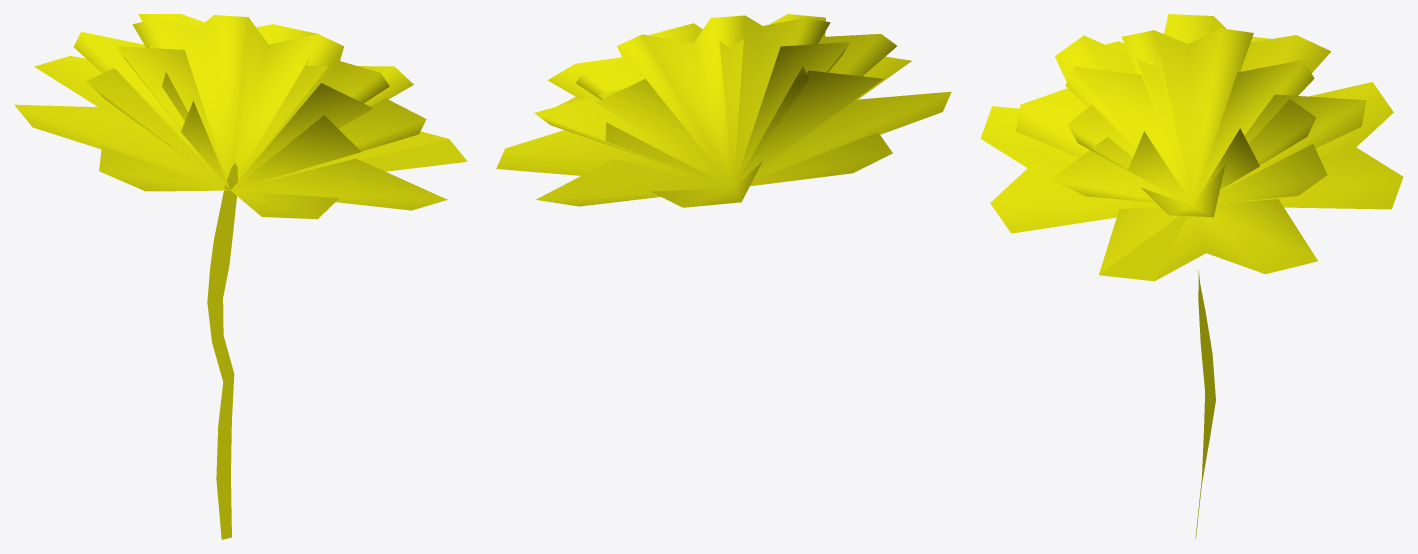
File: Flower3.glb
The picture shows the model from 3 angles, left to right: view 1: azimuth 30°, elevation 25°; view 2: azimuth 150°, elevation 25°; view 3: azimuth 270°, elevation 25°; orthographic projection. The views are drawn at different scales.
Visible parts, largest first — view 1: polySurface1161; view 2: polySurface1161; view 3: polySurface1161.
Boxes of the visible parts, bbox=[...] form: polySurface1161: bbox=[14, 14, 467, 539]; polySurface1161: bbox=[496, 14, 951, 207]; polySurface1161: bbox=[980, 14, 1403, 539].
Bounding box in the file's own units: 0.5315 × 0.6605 × 0.5409.
Materials: 1 (1 with a texture image).
